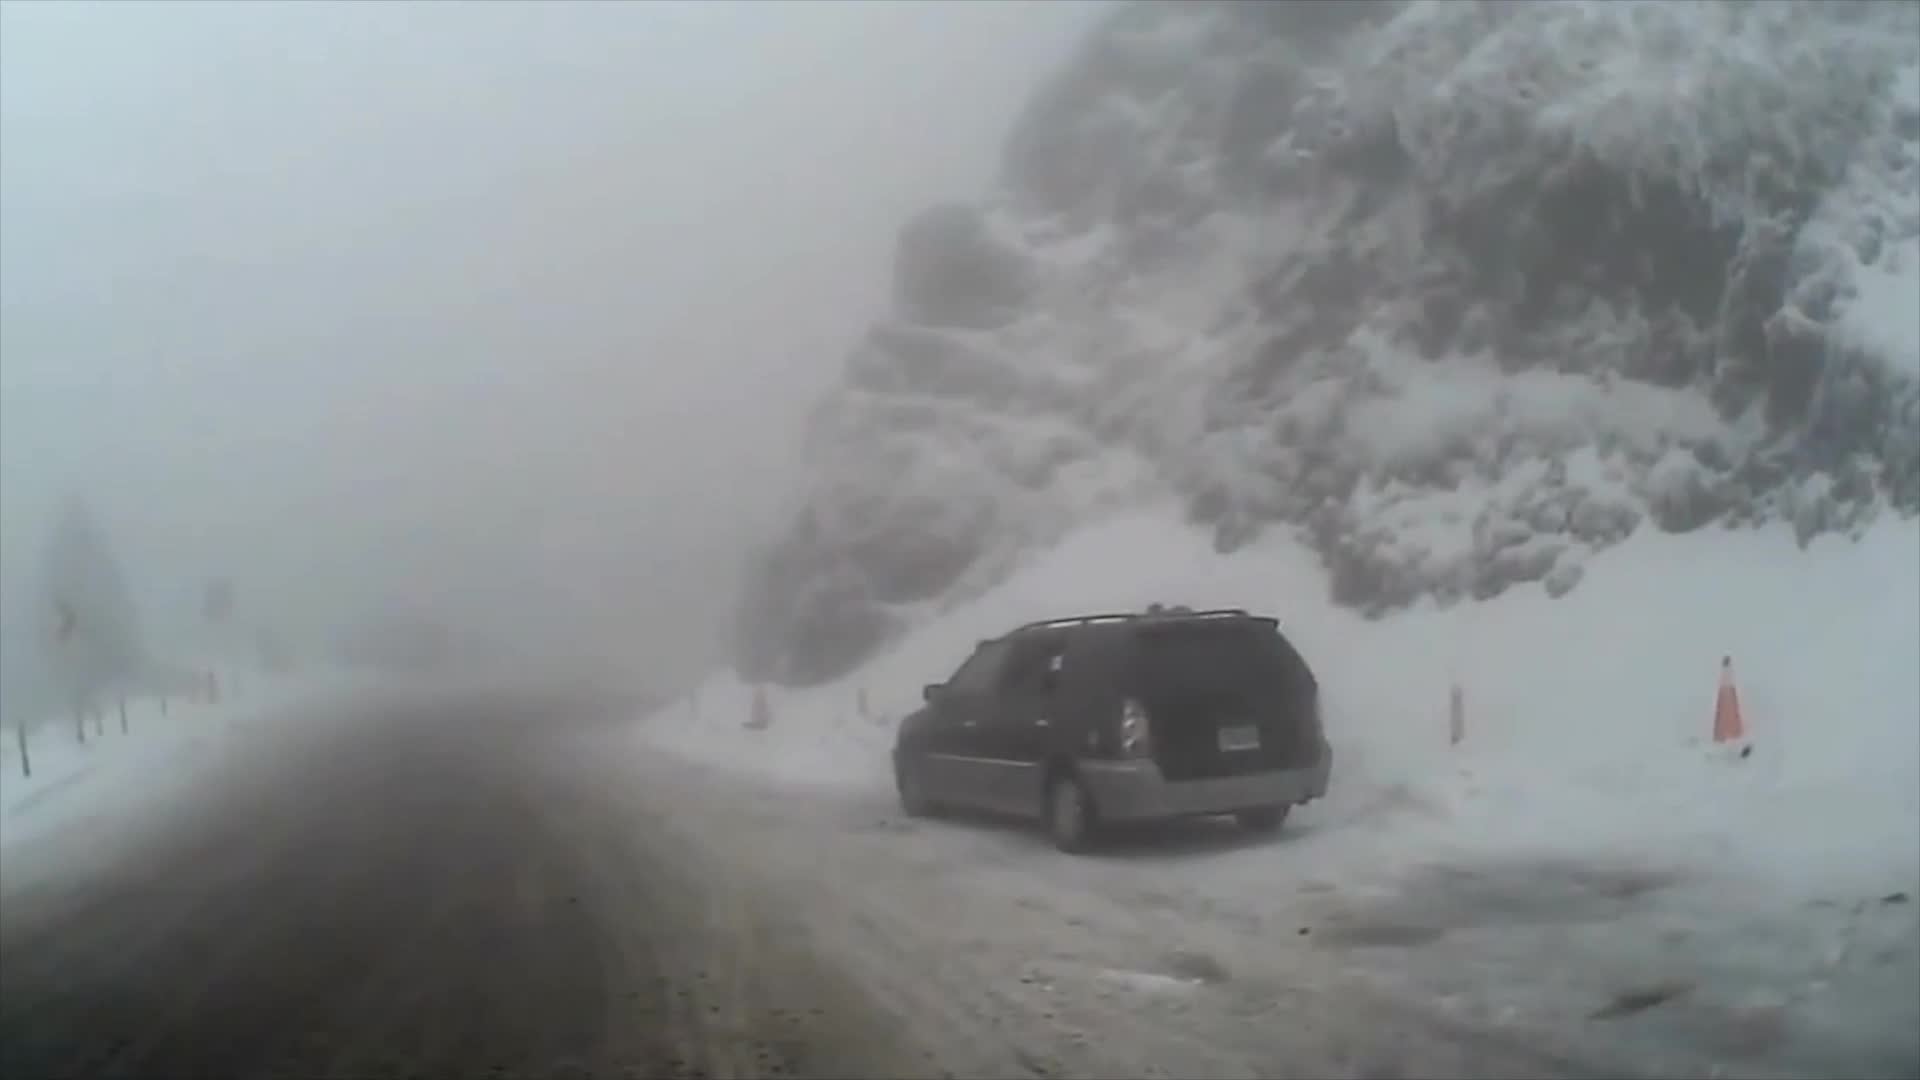vehicle: (887, 603, 1335, 852)
